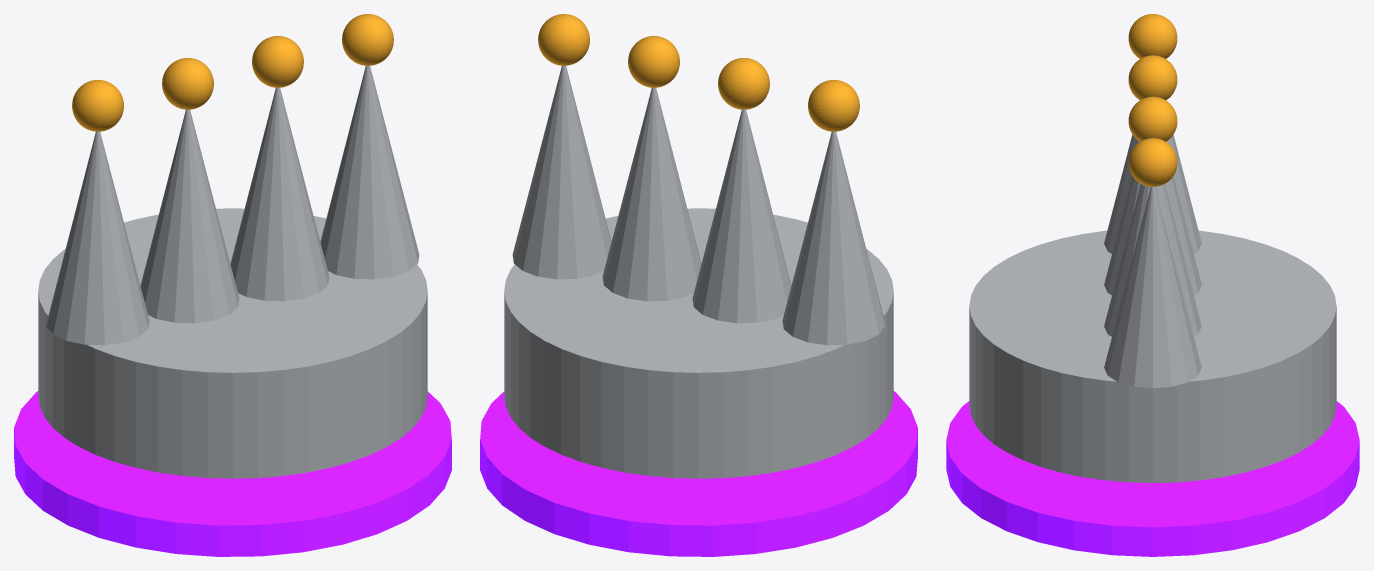
The model's file is modelling_crown.dae.
The picture shows the model from 3 angles, left to right: view 1: azimuth 30°, elevation 25°; view 2: azimuth 150°, elevation 25°; view 3: azimuth 270°, elevation 25°; orthographic projection. The views are drawn at different scales.
Parts seen in each view (by area): view 1: 05_20_Popular_Modelling_Crown_part_01, 05_20_Popular_Modelling_Crown_ROOT_base, 05_20_Popular_Modelling_Crown_part_02, 05_20_Popular_Modelling_Crown_part_06, 05_20_Popular_Modelling_Crown_part_08, 05_20_Popular_Modelling_Crown_part_04, 05_20_Popular_Modelling_Crown_part_03, 05_20_Popular_Modelling_Crown_part_05, 05_20_Popular_Modelling_Crown_part_07, 05_20_Popular_Modelling_Crown_part_09; view 2: 05_20_Popular_Modelling_Crown_part_01, 05_20_Popular_Modelling_Crown_ROOT_base, 05_20_Popular_Modelling_Crown_part_02, 05_20_Popular_Modelling_Crown_part_06, 05_20_Popular_Modelling_Crown_part_08, 05_20_Popular_Modelling_Crown_part_04, 05_20_Popular_Modelling_Crown_part_03, 05_20_Popular_Modelling_Crown_part_05, 05_20_Popular_Modelling_Crown_part_07, 05_20_Popular_Modelling_Crown_part_09; view 3: 05_20_Popular_Modelling_Crown_part_01, 05_20_Popular_Modelling_Crown_ROOT_base, 05_20_Popular_Modelling_Crown_part_08, 05_20_Popular_Modelling_Crown_part_06, 05_20_Popular_Modelling_Crown_part_04, 05_20_Popular_Modelling_Crown_part_02, 05_20_Popular_Modelling_Crown_part_09, 05_20_Popular_Modelling_Crown_part_05, 05_20_Popular_Modelling_Crown_part_03, 05_20_Popular_Modelling_Crown_part_07.
Part boxes in pixels (x1=…): 05_20_Popular_Modelling_Crown_part_01: x1=38, y1=208, x2=427, y2=478; 05_20_Popular_Modelling_Crown_ROOT_base: x1=14, y1=391, x2=451, y2=556; 05_20_Popular_Modelling_Crown_part_02: x1=46, y1=131, x2=149, y2=345; 05_20_Popular_Modelling_Crown_part_06: x1=230, y1=87, x2=329, y2=301; 05_20_Popular_Modelling_Crown_part_08: x1=320, y1=65, x2=419, y2=279; 05_20_Popular_Modelling_Crown_part_04: x1=140, y1=109, x2=239, y2=323; 05_20_Popular_Modelling_Crown_part_03: x1=72, y1=80, x2=123, y2=131; 05_20_Popular_Modelling_Crown_part_05: x1=162, y1=58, x2=213, y2=109; 05_20_Popular_Modelling_Crown_part_07: x1=252, y1=36, x2=303, y2=87; 05_20_Popular_Modelling_Crown_part_09: x1=342, y1=14, x2=393, y2=65; 05_20_Popular_Modelling_Crown_part_01: x1=504, y1=208, x2=893, y2=478; 05_20_Popular_Modelling_Crown_ROOT_base: x1=480, y1=391, x2=917, y2=556; 05_20_Popular_Modelling_Crown_part_02: x1=782, y1=131, x2=885, y2=345; 05_20_Popular_Modelling_Crown_part_06: x1=602, y1=87, x2=701, y2=301; 05_20_Popular_Modelling_Crown_part_08: x1=512, y1=65, x2=611, y2=279; 05_20_Popular_Modelling_Crown_part_04: x1=692, y1=109, x2=791, y2=323; 05_20_Popular_Modelling_Crown_part_03: x1=808, y1=80, x2=859, y2=131; 05_20_Popular_Modelling_Crown_part_05: x1=718, y1=58, x2=769, y2=109; 05_20_Popular_Modelling_Crown_part_07: x1=628, y1=36, x2=679, y2=87; 05_20_Popular_Modelling_Crown_part_09: x1=538, y1=14, x2=589, y2=65; 05_20_Popular_Modelling_Crown_part_01: x1=969, y1=230, x2=1336, y2=482; 05_20_Popular_Modelling_Crown_ROOT_base: x1=946, y1=401, x2=1359, y2=556; 05_20_Popular_Modelling_Crown_part_08: x1=1104, y1=187, x2=1201, y2=388; 05_20_Popular_Modelling_Crown_part_06: x1=1104, y1=184, x2=1201, y2=336; 05_20_Popular_Modelling_Crown_part_04: x1=1104, y1=176, x2=1201, y2=295; 05_20_Popular_Modelling_Crown_part_02: x1=1104, y1=134, x2=1201, y2=253; 05_20_Popular_Modelling_Crown_part_09: x1=1128, y1=138, x2=1177, y2=186; 05_20_Popular_Modelling_Crown_part_05: x1=1128, y1=55, x2=1177, y2=100; 05_20_Popular_Modelling_Crown_part_03: x1=1128, y1=14, x2=1177, y2=58; 05_20_Popular_Modelling_Crown_part_07: x1=1128, y1=96, x2=1177, y2=141.
Size of the model in its own units: 0.76 by 0.7936 by 0.76.
